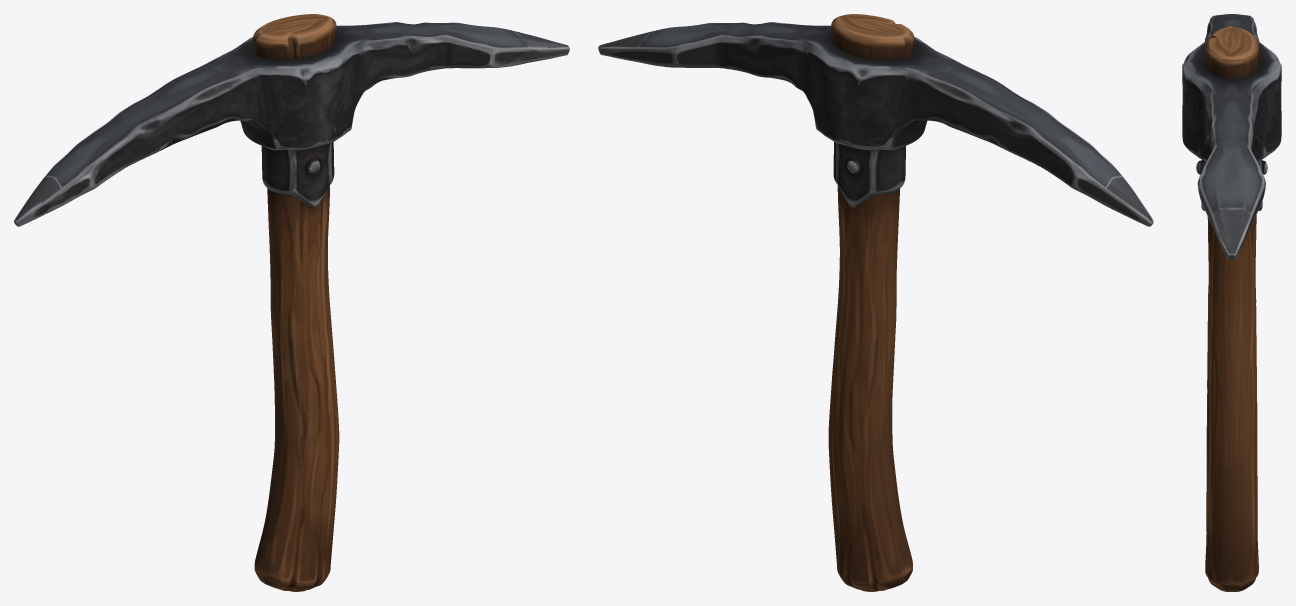
The model's file is Meshy_AI_Stylized_fantasy_survival_RPG_iron_20261105_texture.fbx.
3 views of the same model, side by side, from view 1: azimuth 30°, elevation 25°; view 2: azimuth 150°, elevation 25°; view 3: azimuth 270°, elevation 25° (orthographic). The views are drawn at different scales.
Parts seen in each view (by area): view 1: Mesh_0; view 2: Mesh_0; view 3: Mesh_0.
Boxes of the visible parts, x1,y1,x2,y2 form: Mesh_0: (14, 14, 569, 591); Mesh_0: (598, 14, 1153, 591); Mesh_0: (1182, 14, 1281, 591).
Bounding box in the file's own units: 190 × 185 × 30.76.
Materials: 1 (1 with a texture image).
